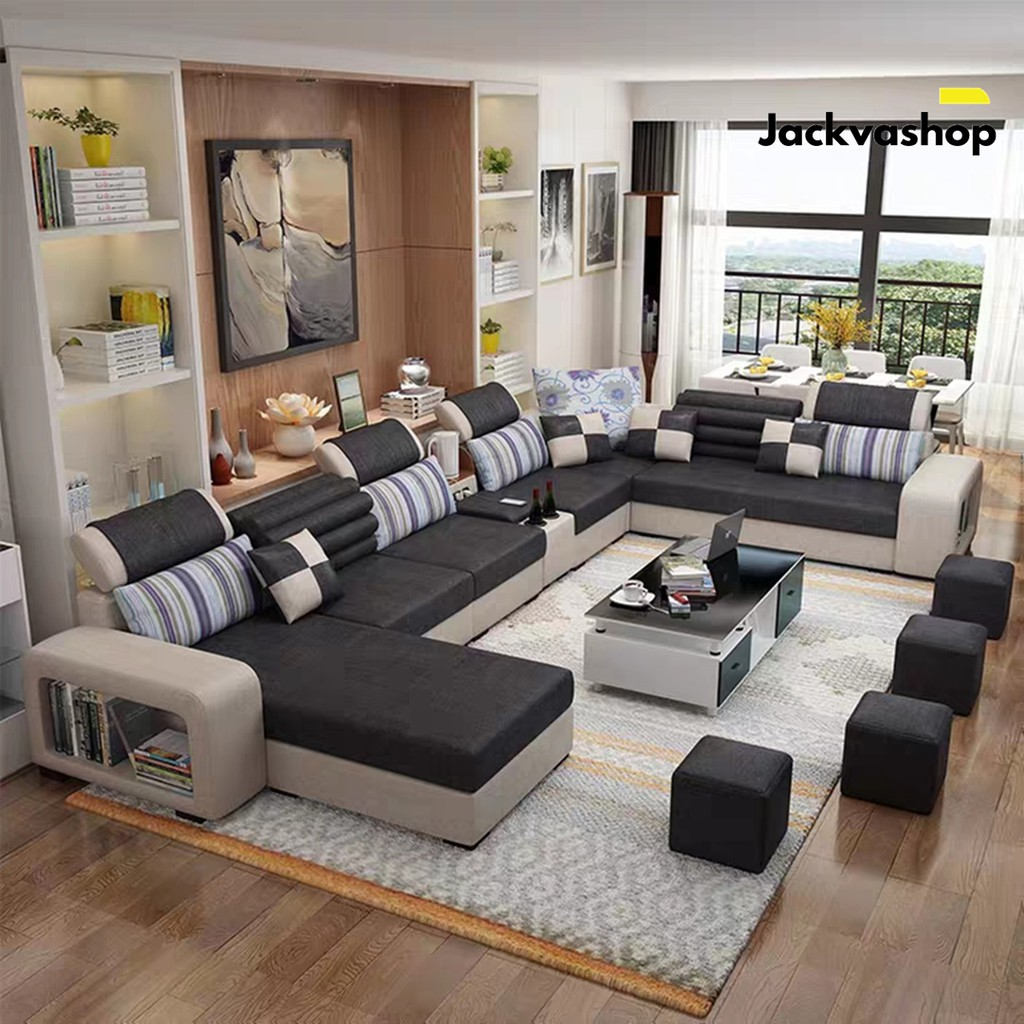Bantal: (245, 525, 348, 627), (619, 398, 698, 467), (753, 417, 833, 482), (538, 407, 612, 471)
Buku: (44, 679, 121, 771), (55, 164, 166, 223), (57, 322, 164, 383), (129, 722, 195, 798), (30, 143, 65, 241)
Gelas: (619, 578, 645, 604)
Laptop: (670, 507, 749, 562)
Lukisan: (204, 136, 364, 369), (534, 161, 577, 286), (581, 160, 623, 274)
Meja: (582, 530, 813, 708)
Sova: (84, 431, 581, 865), (535, 365, 982, 554)
Tanaman: (36, 99, 124, 169), (803, 299, 858, 383)
buku: (653, 556, 720, 603)
tanaman: (478, 144, 516, 193)
